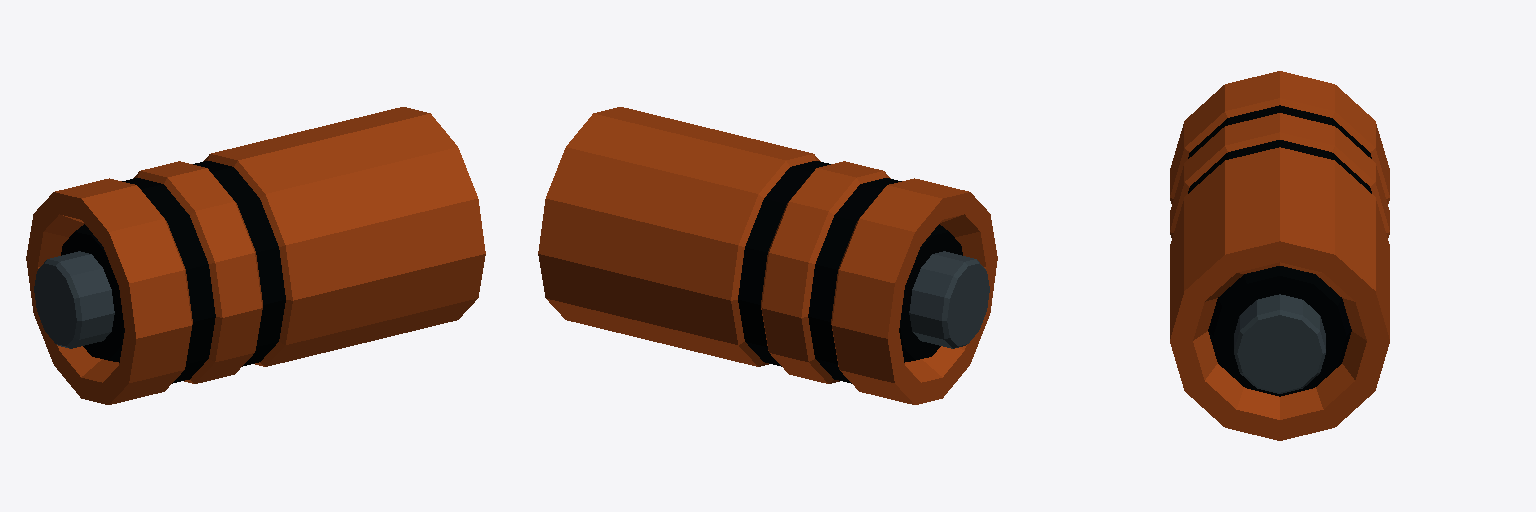
File: battery.obj
3 renders of one model, left to right at view 1: azimuth 30°, elevation 25°; view 2: azimuth 150°, elevation 25°; view 3: azimuth 270°, elevation 25°, orthographic.
Parts seen in each view (by area): view 1: battery_Cylinder.108; view 2: battery_Cylinder.108; view 3: battery_Cylinder.108.
Boxes of the visible parts, x1=… form: battery_Cylinder.108: x1=26, y1=107, x2=485, y2=404; battery_Cylinder.108: x1=538, y1=107, x2=997, y2=404; battery_Cylinder.108: x1=1170, y1=71, x2=1389, y2=440.
Bounding box in the file's own units: 0.8452 × 0.4025 × 0.4025.